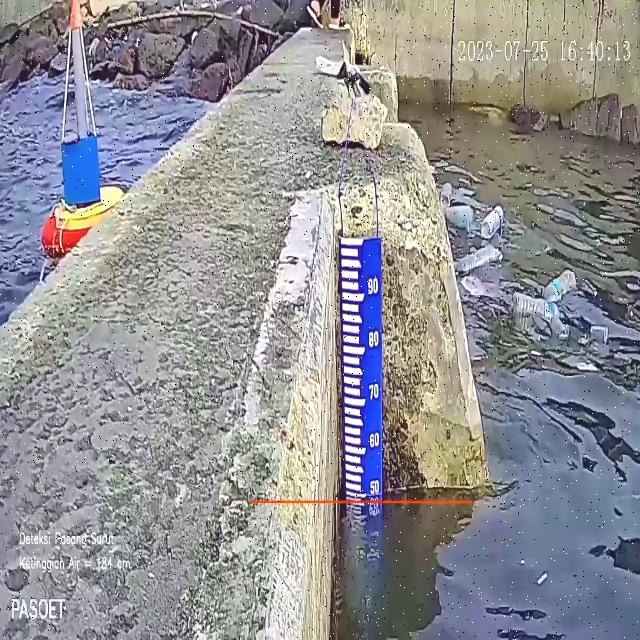50: (369, 478, 380, 495)
60: (369, 429, 380, 448)
70: (368, 382, 380, 402)
80: (369, 330, 380, 349)
90: (368, 277, 378, 294)
staff: (341, 237, 382, 499)
